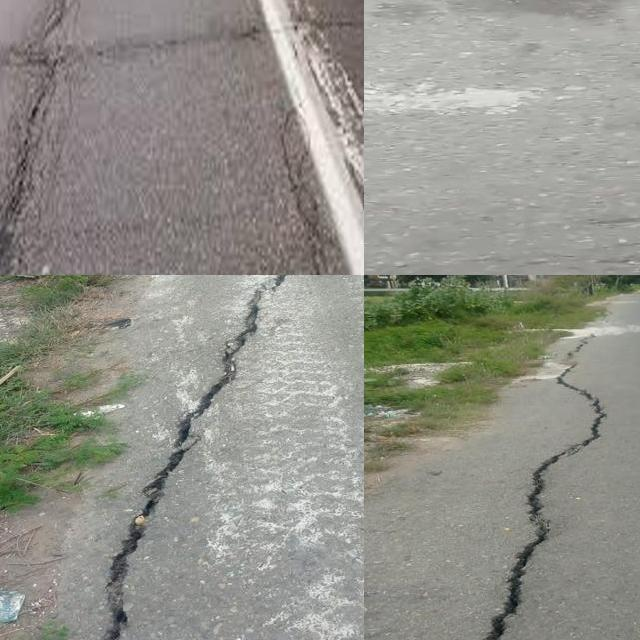Melintang: (0, 6, 279, 80)
Memanjang: (74, 275, 300, 640), (472, 333, 616, 640), (0, 0, 78, 275)
